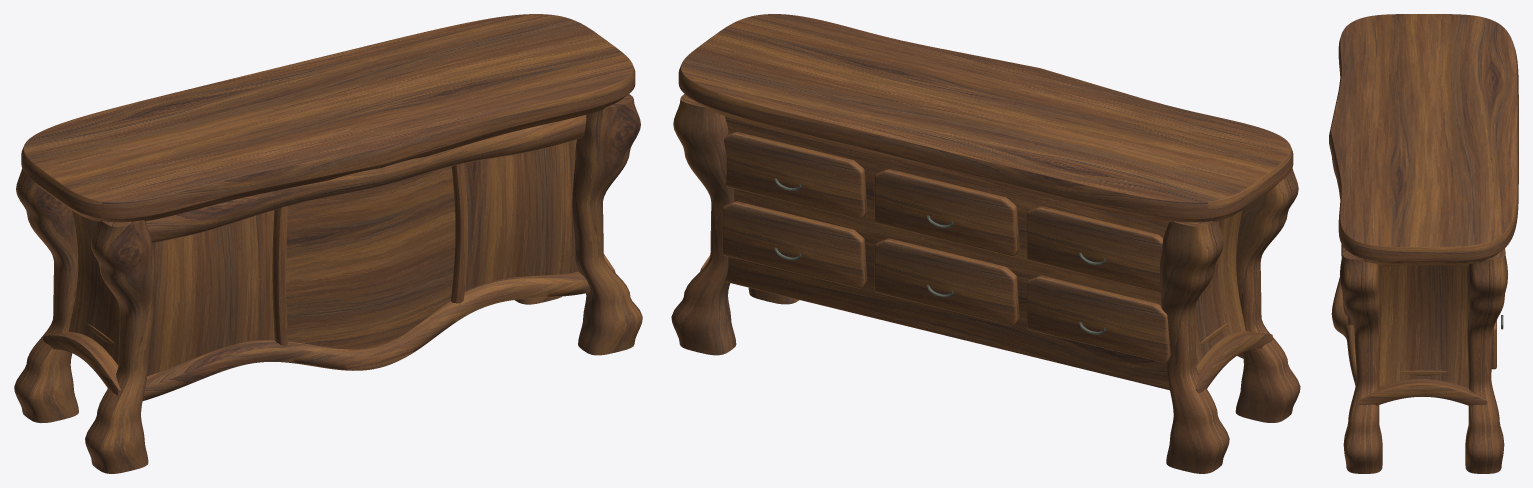
File: CM_CW08_FormOnly.fbx
The picture shows the model from 3 angles, left to right: view 1: azimuth 30°, elevation 25°; view 2: azimuth 150°, elevation 25°; view 3: azimuth 270°, elevation 25°; orthographic projection. The views are drawn at different scales.
Visible parts, largest first — view 1: CM_CW08_FormOnly; view 2: CM_CW08_FormOnly; view 3: CM_CW08_FormOnly.
Boxes of the visible parts, x1=… form: CM_CW08_FormOnly: x1=14, y1=14, x2=642, y2=473; CM_CW08_FormOnly: x1=671, y1=14, x2=1300, y2=473; CM_CW08_FormOnly: x1=1329, y1=14, x2=1518, y2=473.
Size of the model in its own units: 2.28 by 1.05 by 0.78.
